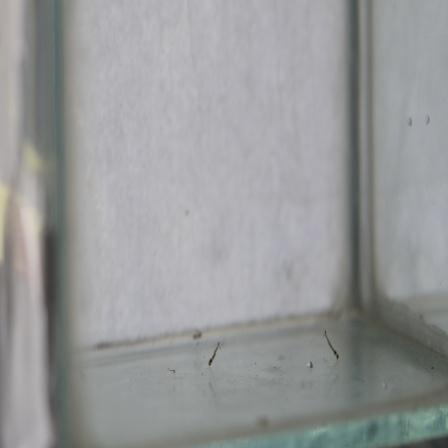Jentik-Nyamuk: (320, 327, 342, 363), (202, 338, 224, 368)
